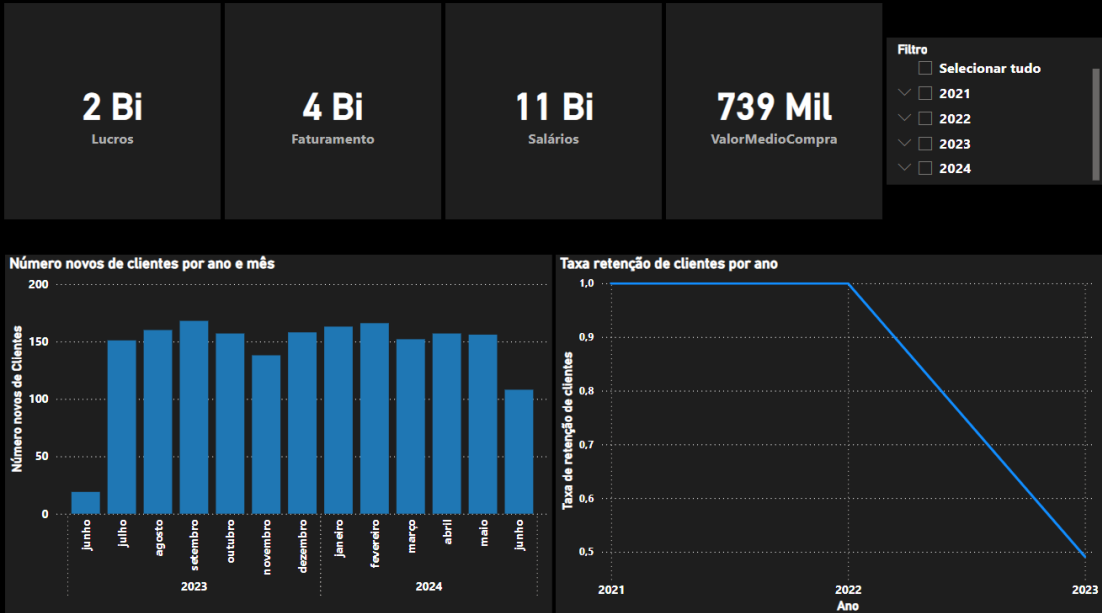

This screenshot's page, from the dashboard's own definition file:
{"tool":"powerbi","page":{"name":"Página 1","canvas":[1280,720],"ordinal":0},"visuals":[{"type":"card","fields":{"Values":["onebigtable.Lucro"]},"box":[4.8,4.9,250,250],"z":0},{"type":"card","fields":{"Values":["onebigtable.Total Faturamento"]},"box":[259.7,4.9,250,250],"z":1000},{"type":"card","fields":{"Values":["onebigtable.Total Salários"]},"box":[514.5,4.9,250,250],"z":2000},{"type":"card","fields":{"Values":["onebigtable.Valor Médio de Compra por Cliente"]},"box":[769.3,4.9,250,250],"z":3000},{"type":"clusteredColumnChart","fields":{"Category":["onebigtable.OrderDate.Variation.Hierarquia de datas.Ano","onebigtable.OrderDate.Variation.Hierarquia de datas.Mês"],"Y":["onebigtable.Número de novos clientes"]},"box":[5.5,296,632.4,418.3],"z":4000},{"type":"lineChart","fields":{"Y":["onebigtable.Taxa de Retenção de Clientes"],"Category":["onebigtable.OrderDate.Variation.Hierarquia de datas.Ano","onebigtable.OrderDate.Variation.Hierarquia de datas.Mês"]},"box":[642.2,296,632.4,418.3],"z":4001},{"type":"slicer","fields":{"Values":["onebigtable.OrderDate.Variation.Hierarquia de datas.Ano","onebigtable.OrderDate.Variation.Hierarquia de datas.Mês"]},"box":[1024.4,56.8,250.1,146.3],"z":4002}]}

Visuals, with their boxes in screenshot pixels (x1, y1, x2, y2), scaled from the page's 1280x720 canvas onto the 1102x613 screenshot:
card - onebigtable.Lucro: [4, 4, 219, 217]
card - onebigtable.Total Faturamento: [224, 4, 439, 217]
card - onebigtable.Total Salários: [443, 4, 658, 217]
card - onebigtable.Valor Médio de Compra por Cliente: [662, 4, 878, 217]
clusteredColumnChart - onebigtable.OrderDate.Variation.Hierarquia de datas.Ano x onebigtable.OrderDate.Variation.Hierarquia de datas.Mês: [5, 252, 549, 608]
lineChart - onebigtable.Taxa de Retenção de Clientes x onebigtable.OrderDate.Variation.Hierarquia de datas.Ano: [553, 252, 1097, 608]
slicer - onebigtable.OrderDate.Variation.Hierarquia de datas.Ano x onebigtable.OrderDate.Variation.Hierarquia de datas.Mês: [882, 48, 1097, 173]
